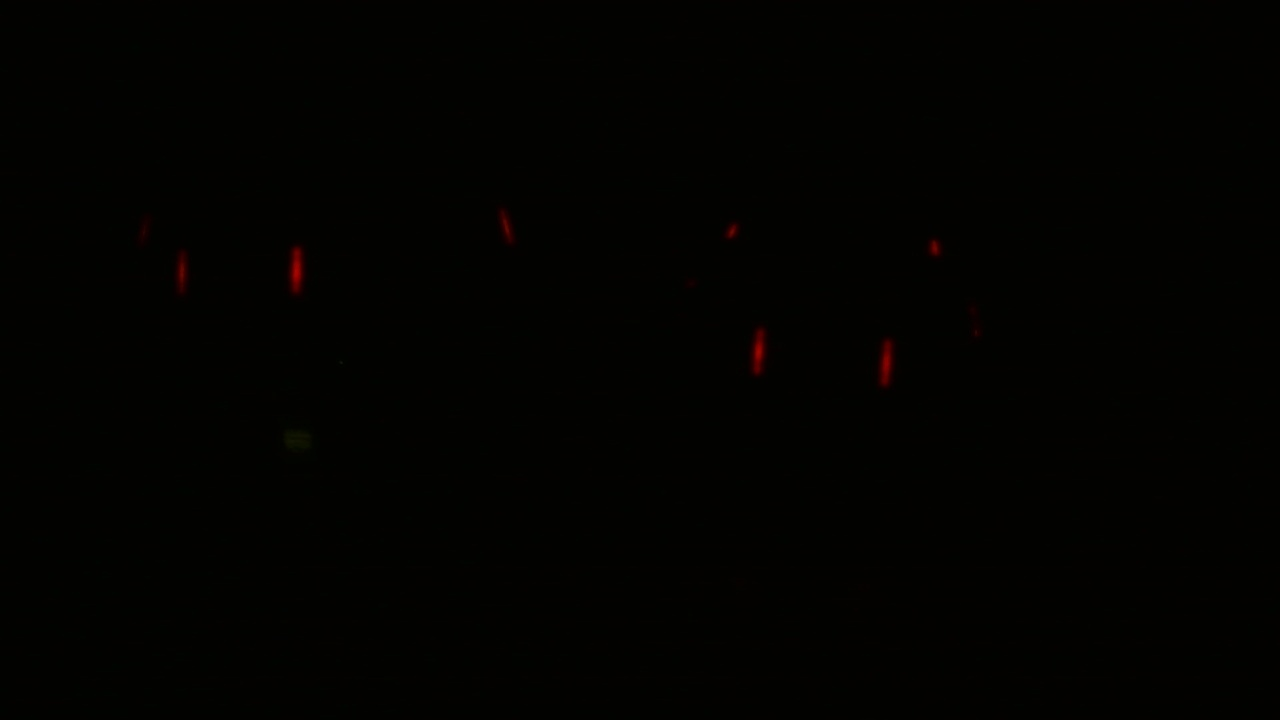pair1: (749, 314, 902, 402), (167, 231, 311, 307)
